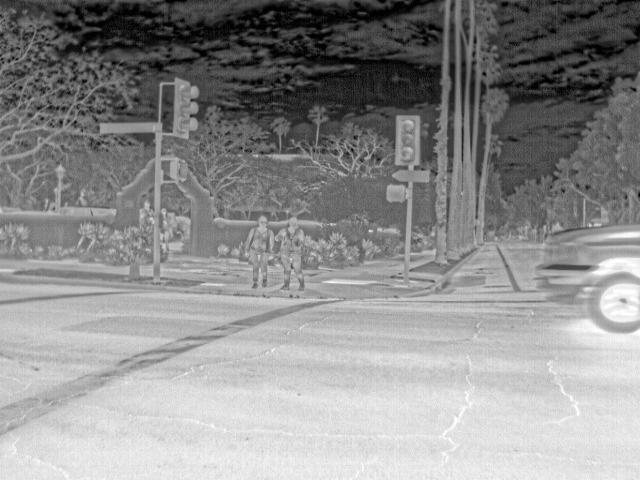car: (538, 220, 640, 336)
person: (247, 215, 274, 287), (279, 218, 306, 290), (160, 206, 175, 262), (140, 199, 154, 224)
